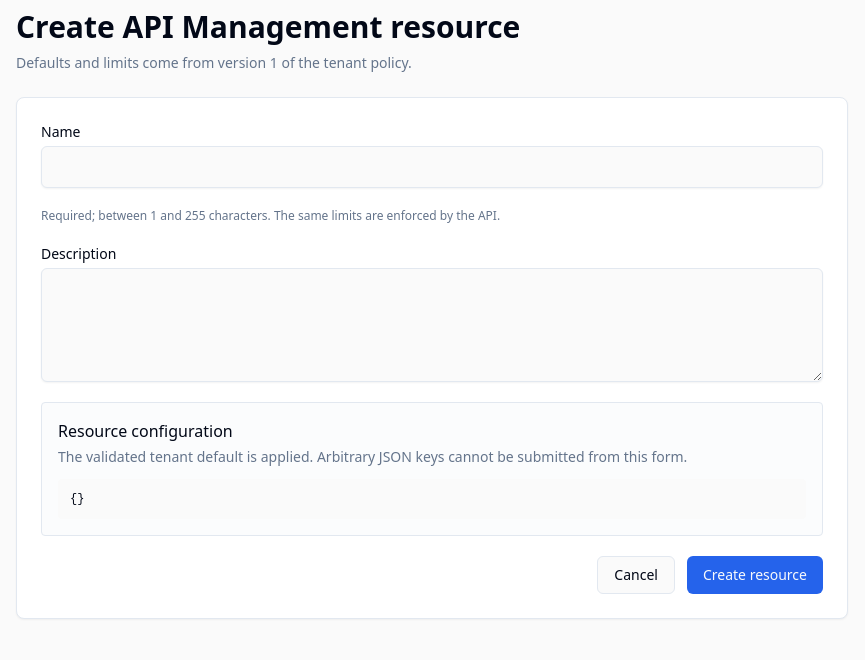
Test: CreateApiManagementResourcePage › prevents submission outside configured name limits
The image size is (865, 660).
Step 1. Click the button "Create resource" → (755,575), box [687,556,823,594]
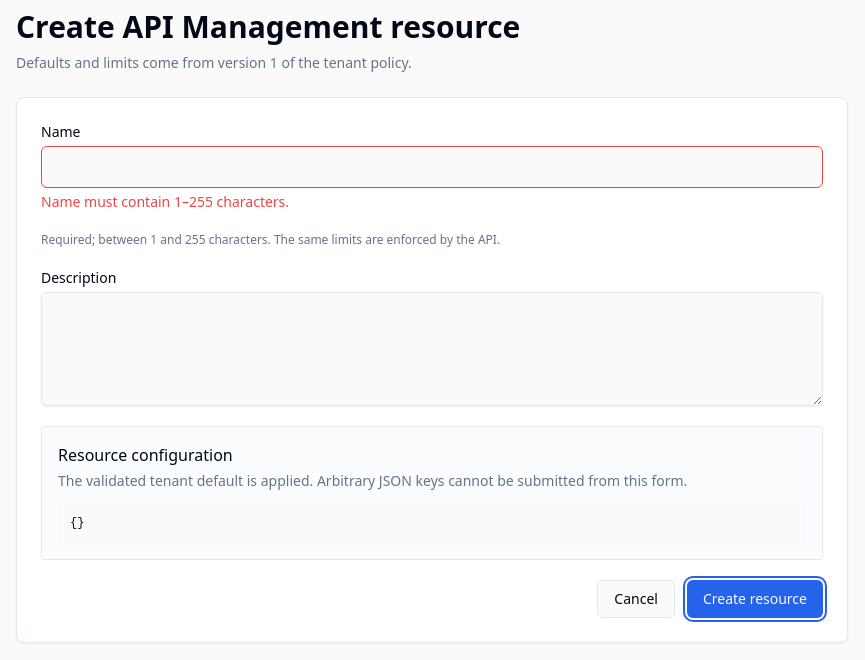
Expected: the text "Name must contain 1–255 characters." is shown, [41,192,289,211]
